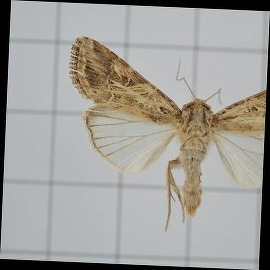Spodoptera litura: (66, 40, 264, 231)
